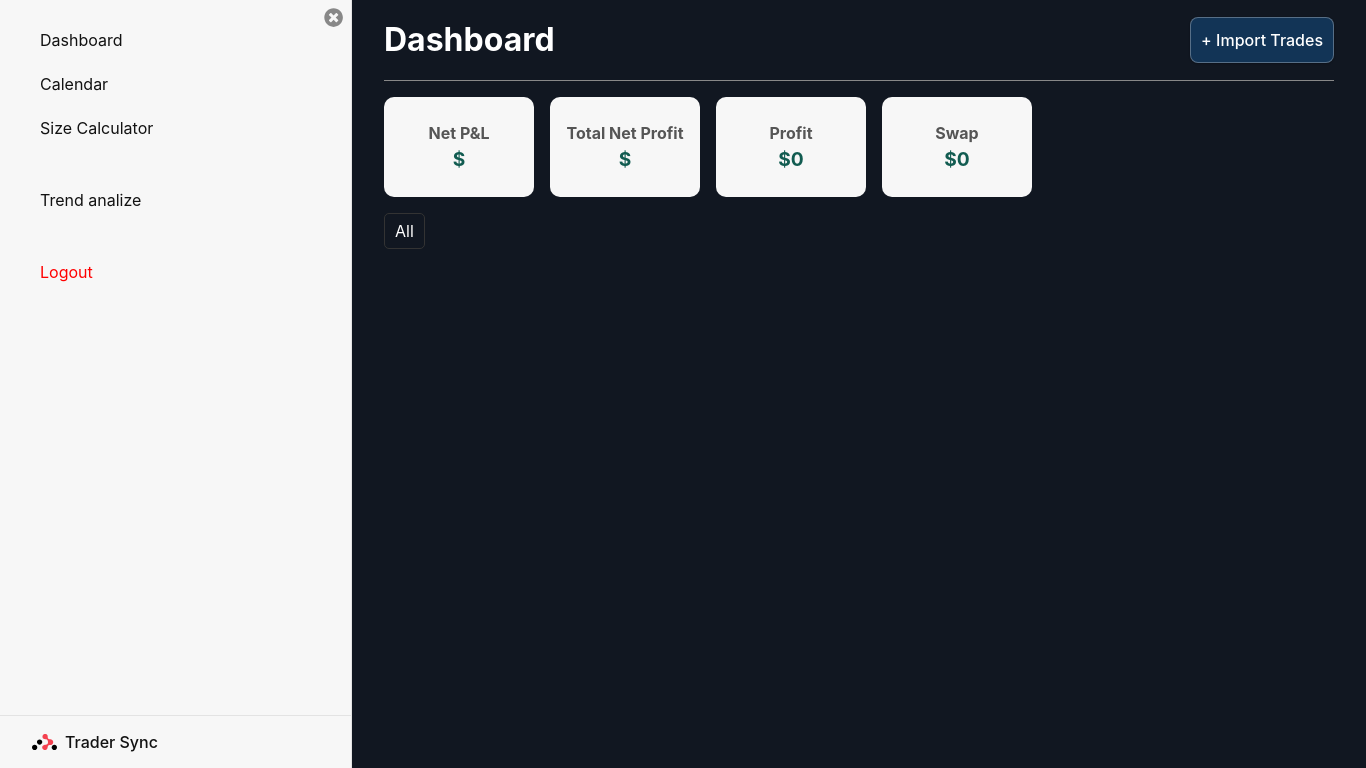
Test: not renders sidebar if logout is clicked
This screenshot has width=1366, height=768.
Click the link with test id "logout-btn" at (66, 272), box 40,262 -> 93,282
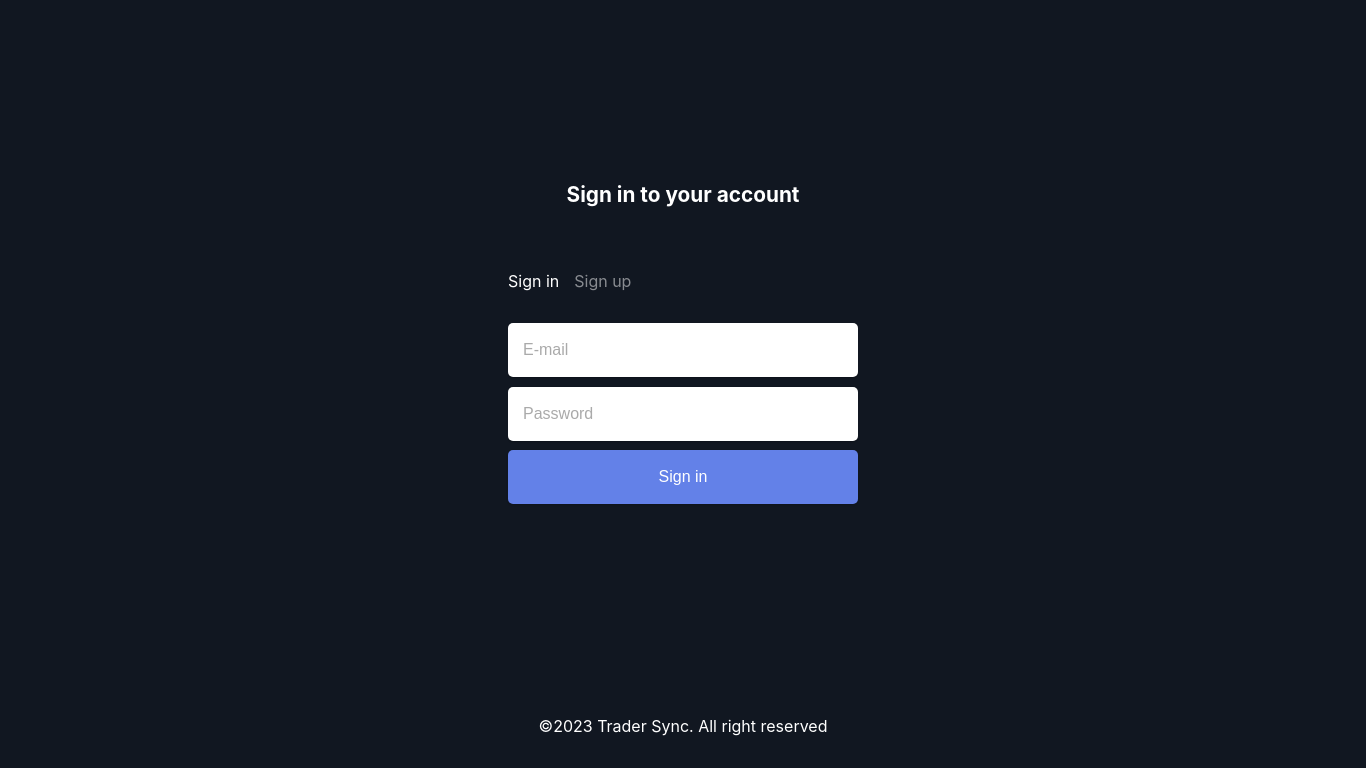
Now the button reads "Sign in", box 508,450 -> 858,504
